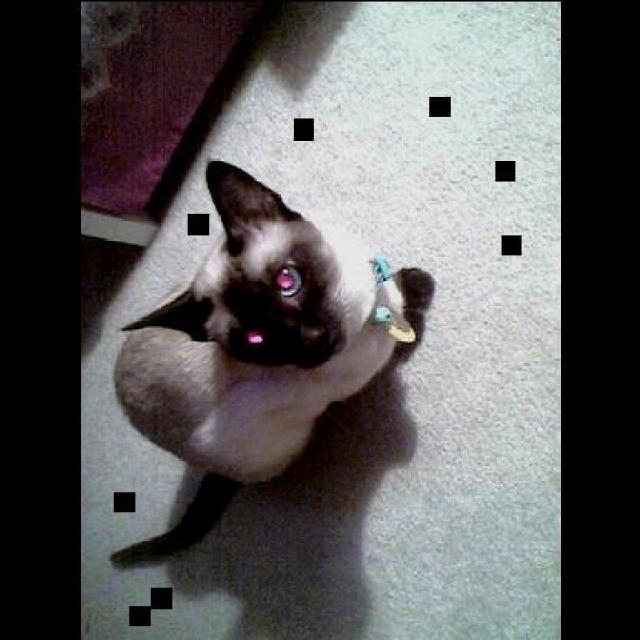unauthorized: (108, 157, 435, 568)
